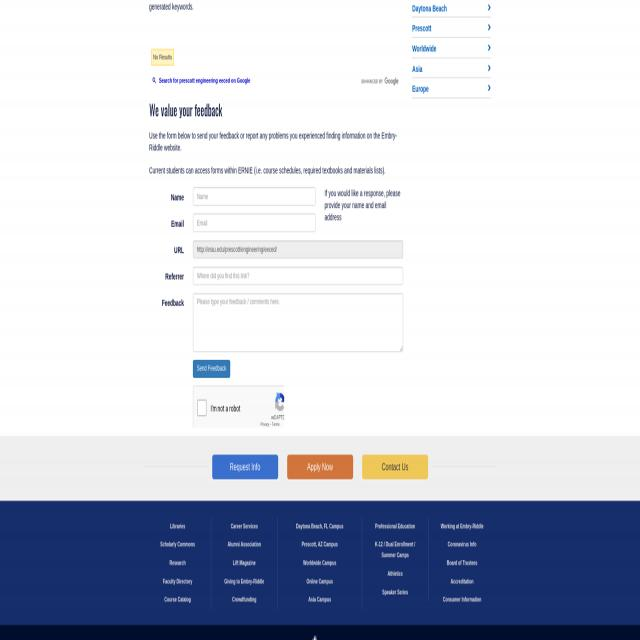button: (212, 454, 278, 479), (287, 454, 353, 479), (362, 454, 428, 479), (193, 360, 230, 378), (361, 78, 399, 84)
field: (193, 295, 403, 351), (193, 240, 403, 258), (193, 267, 403, 285), (193, 214, 315, 232), (193, 188, 315, 205), (198, 400, 206, 416)
